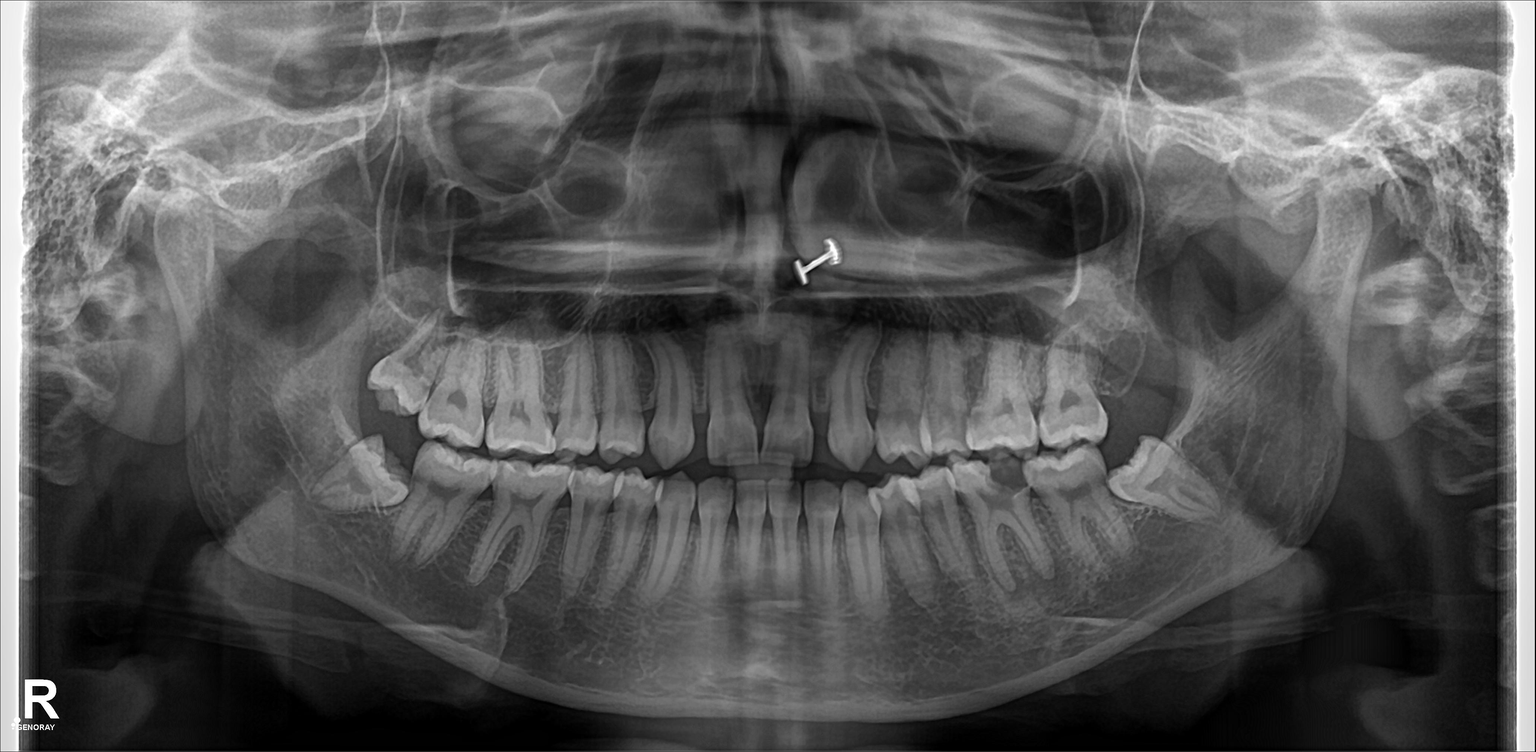Dental Caries: (981, 462, 1026, 509), (1047, 475, 1098, 511)
Impacted Third Molar: (1117, 441, 1220, 521), (317, 441, 402, 511)
Missing Tooth: (1088, 329, 1141, 407), (1140, 315, 1177, 413)
Periapical Lesion: (974, 523, 1076, 603)
